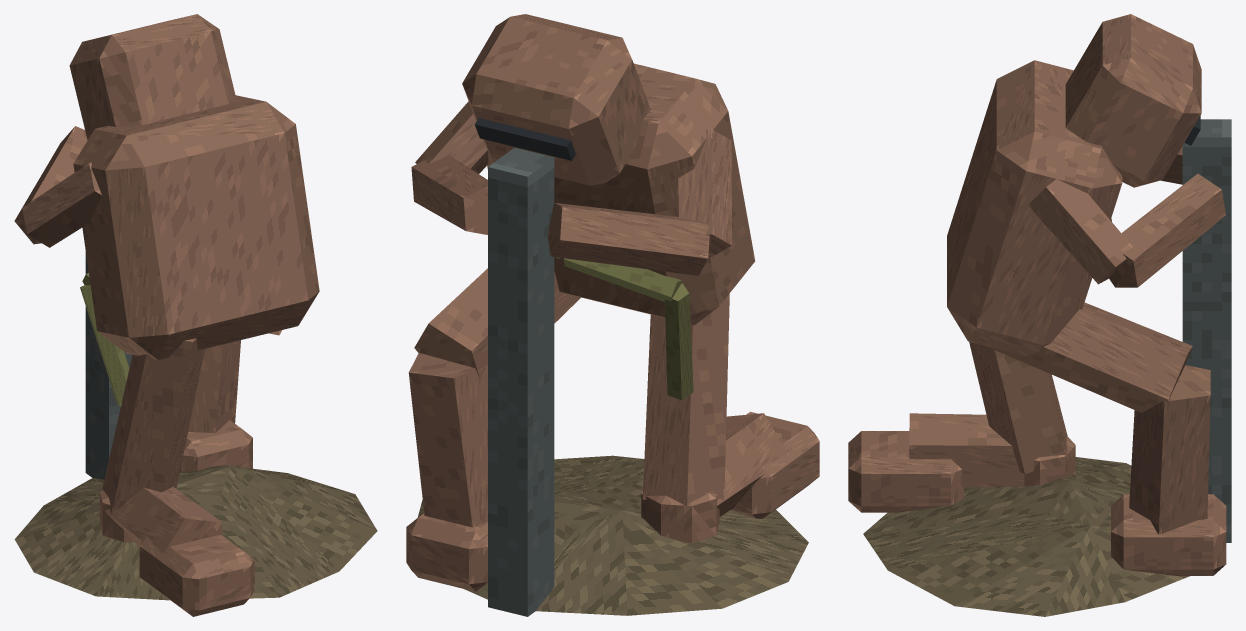
The model's file is f_dead_exodii.glb.
3 renders of one model, left to right at view 1: azimuth 30°, elevation 25°; view 2: azimuth 150°, elevation 25°; view 3: azimuth 270°, elevation 25°, orthographic. The views are drawn at different scales.
Visible parts, largest first — view 1: block_rusted-knight-breastplate, block_ancient-root-bed, block_heavy-bowed-knight-helmet, block_knee-down-rear-leg-2, block_grounded-rusted-knight-boot (×2), block_knee-down-rear-leg-1, block_knight-gripping-the-buried-prop-1, block_buried-memorial-silhouette, block_planted-forward-leg-1, block_knight-gripping-the-buried-prop-2, block_overgrowth-between-plates-1, block_grounded-kneepad; view 2: block_buried-memorial-silhouette, block_ancient-root-bed, block_heavy-bowed-knight-helmet, block_rusted-knight-breastplate, block_knight-gripping-the-buried-prop-2 (×2), block_knee-down-rear-leg-2, block_planted-forward-leg-1, block_grounded-rusted-knight-boot (×2), block_knight-gripping-the-buried-prop-1 (×2), block_planted-forward-leg-2, block_knee-down-rear-leg-1, block_grounded-kneepad (+3 smaller); view 3: block_rusted-knight-breastplate, block_ancient-root-bed, block_heavy-bowed-knight-helmet, block_grounded-rusted-knight-boot (×2), block_buried-memorial-silhouette, block_planted-forward-leg-1, block_planted-forward-leg-2, block_knee-down-rear-leg-2, block_knight-gripping-the-buried-prop-2, block_knee-down-rear-leg-1, block_knight-gripping-the-buried-prop-1, block_grounded-kneepad.
Part boxes in pixels (box(x1,y1,x2,y2)): block_rusted-knight-breastplate: box(73, 95, 319, 359); block_ancient-root-bed: box(14, 465, 377, 600); block_heavy-bowed-knight-helmet: box(69, 14, 235, 139); block_knee-down-rear-leg-2: box(102, 338, 204, 514); block_grounded-rusted-knight-boot (×2): box(139, 420, 254, 616); block_knee-down-rear-leg-1: box(105, 486, 222, 554); block_knight-gripping-the-buried-prop-1: box(22, 162, 101, 247); block_buried-memorial-silhouette: box(85, 252, 132, 479); block_planted-forward-leg-1: box(188, 340, 240, 432); block_knight-gripping-the-buried-prop-2: box(14, 126, 87, 244); block_overgrowth-between-plates-1: box(80, 285, 129, 406); block_grounded-kneepad: box(99, 490, 133, 542); block_buried-memorial-silhouette: box(488, 147, 554, 616); block_ancient-root-bed: box(417, 455, 808, 615); block_heavy-bowed-knight-helmet: box(462, 14, 650, 185); block_rusted-knight-breastplate: box(487, 63, 755, 325); block_knight-gripping-the-buried-prop-2 (×2): box(411, 155, 709, 275); block_knee-down-rear-leg-2: box(642, 294, 729, 505); block_planted-forward-leg-1: box(408, 352, 487, 527); block_grounded-rusted-knight-boot (×2): box(406, 412, 819, 591); block_knight-gripping-the-buried-prop-1 (×2): box(415, 101, 731, 257); block_planted-forward-leg-2: box(414, 268, 580, 379); block_knee-down-rear-leg-1: box(716, 413, 788, 516); block_grounded-kneepad: box(641, 487, 719, 543); block_rusted-knight-breastplate: box(947, 60, 1122, 356); block_ancient-root-bed: box(863, 457, 1189, 616); block_heavy-bowed-knight-helmet: box(1065, 14, 1201, 187); block_grounded-rusted-knight-boot (×2): box(848, 431, 1226, 575); block_buried-memorial-silhouette: box(1182, 119, 1231, 542); block_planted-forward-leg-1: box(1129, 365, 1210, 534); block_planted-forward-leg-2: box(985, 302, 1192, 412); block_knee-down-rear-leg-2: box(969, 341, 1068, 474); block_knight-gripping-the-buried-prop-2: box(1109, 173, 1225, 287); block_knee-down-rear-leg-1: box(909, 413, 1024, 487); block_knight-gripping-the-buried-prop-1: box(1028, 179, 1132, 284); block_grounded-kneepad: box(1014, 436, 1075, 486).
Size of the model in its own units: 0.7588 by 1.08 by 0.75.
Materials: 1 (1 with a texture image).
